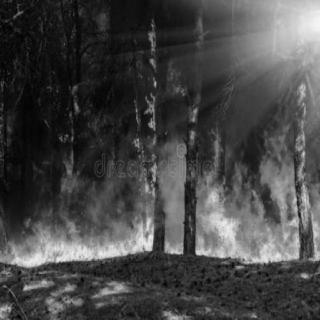Fire: (0, 120, 318, 262)
other: (269, 0, 319, 54)
